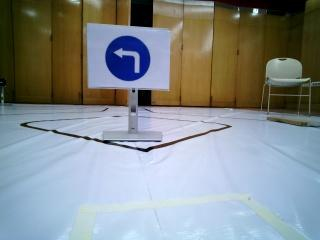left: (94, 30, 161, 85)
